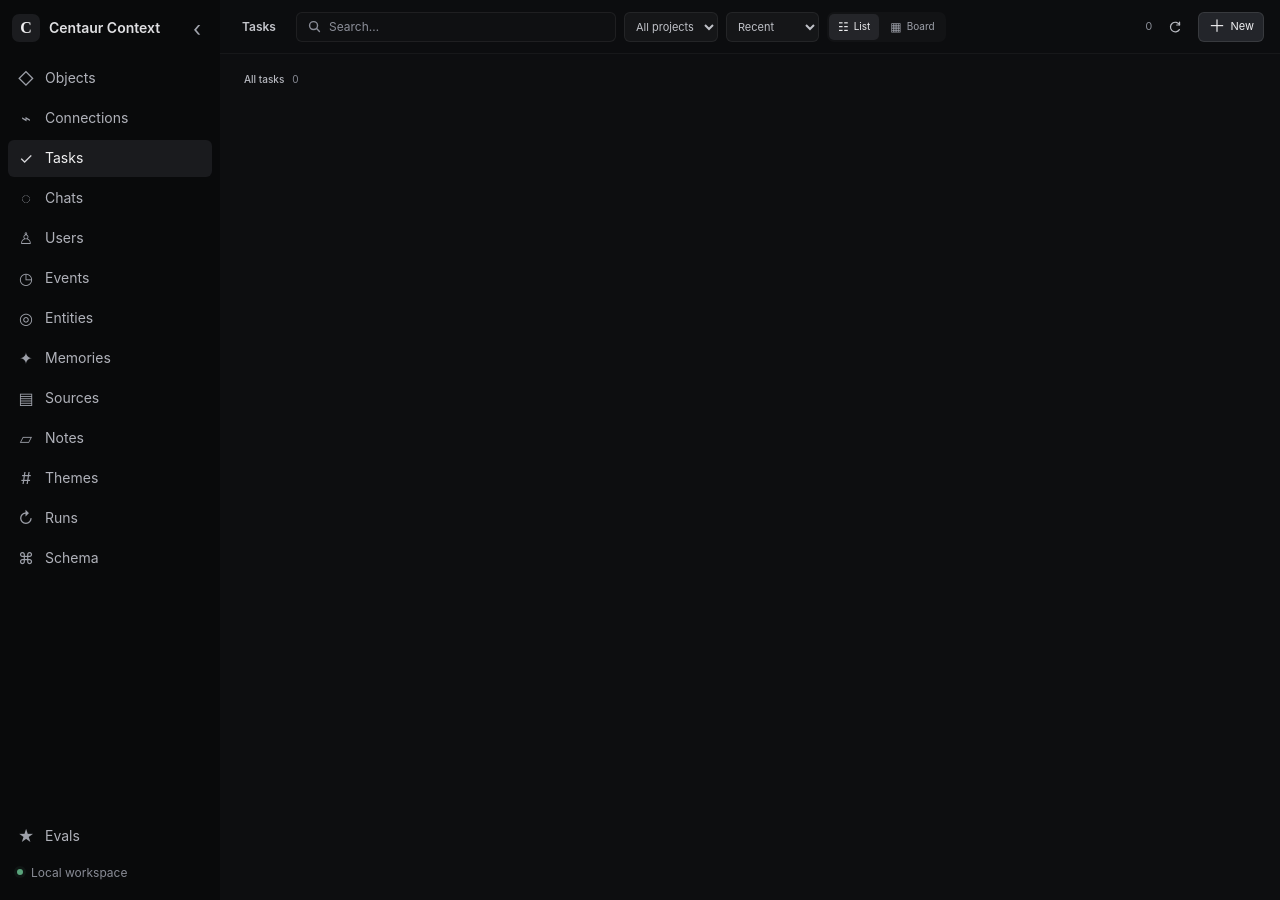
Test case: Tasks List due-date mode › applies task search and project filters before building date groups
Select "Due date" in the dropdown named "Sort Tasks" at (772, 26), box [726,12,819,42]
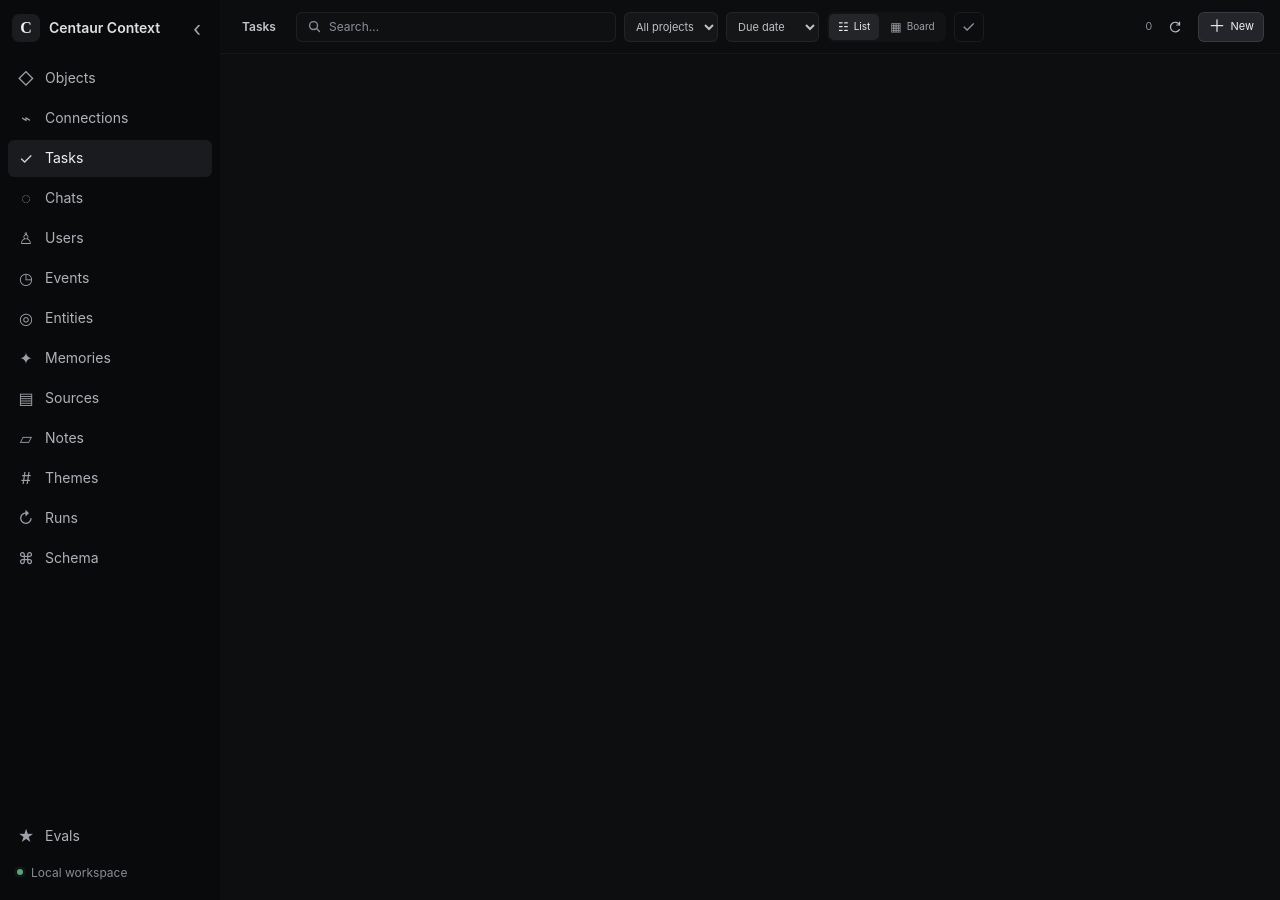
Type "needle" into the field named "Search tasks" at (467, 26), box [329,18,605,35]
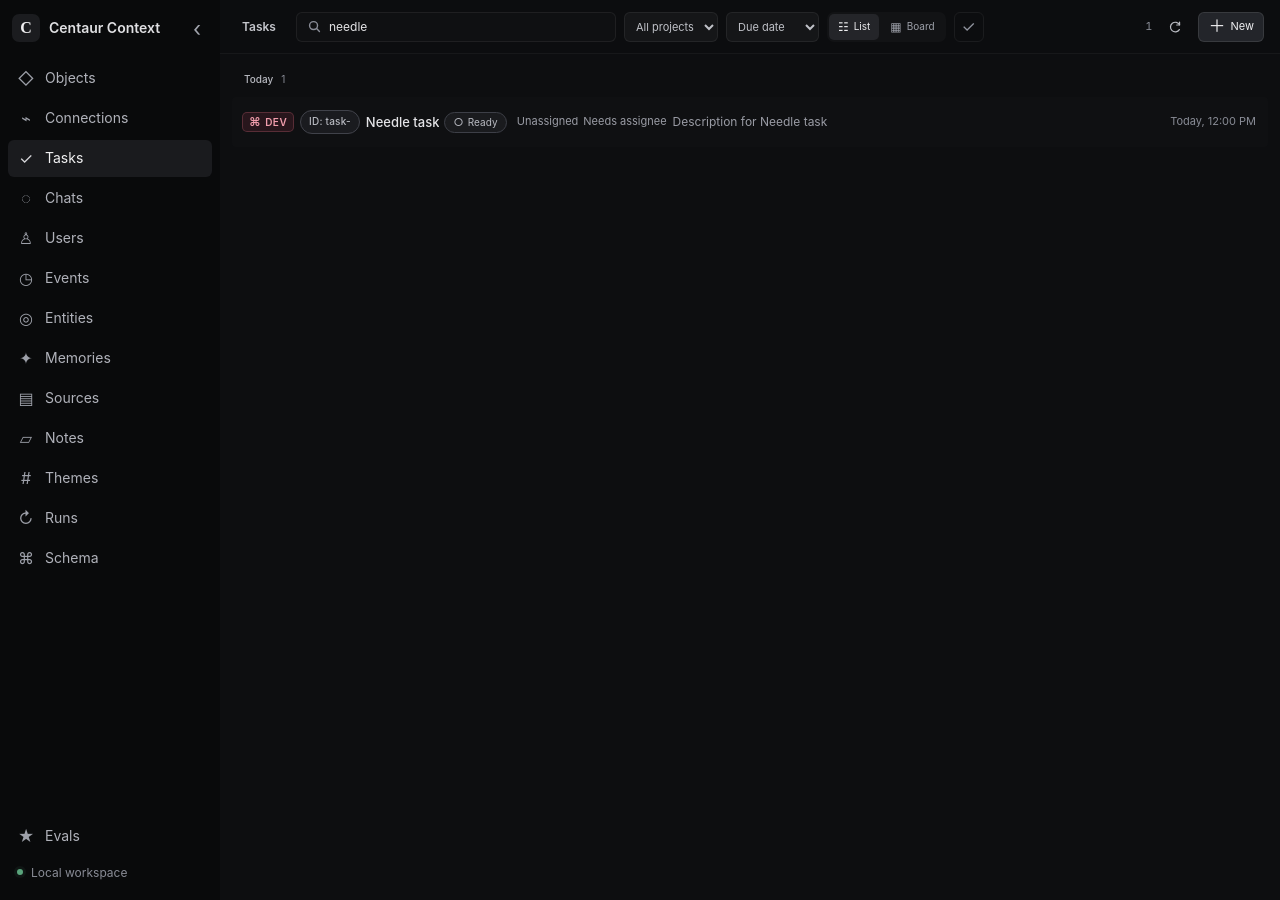
Expected: the text "Other task" is not shown
Result: the element named "Today tasks" shows "Needle task" at [366,114,440,130]
Clear the field named "Search tasks" at (467, 26), box [329,18,605,35]
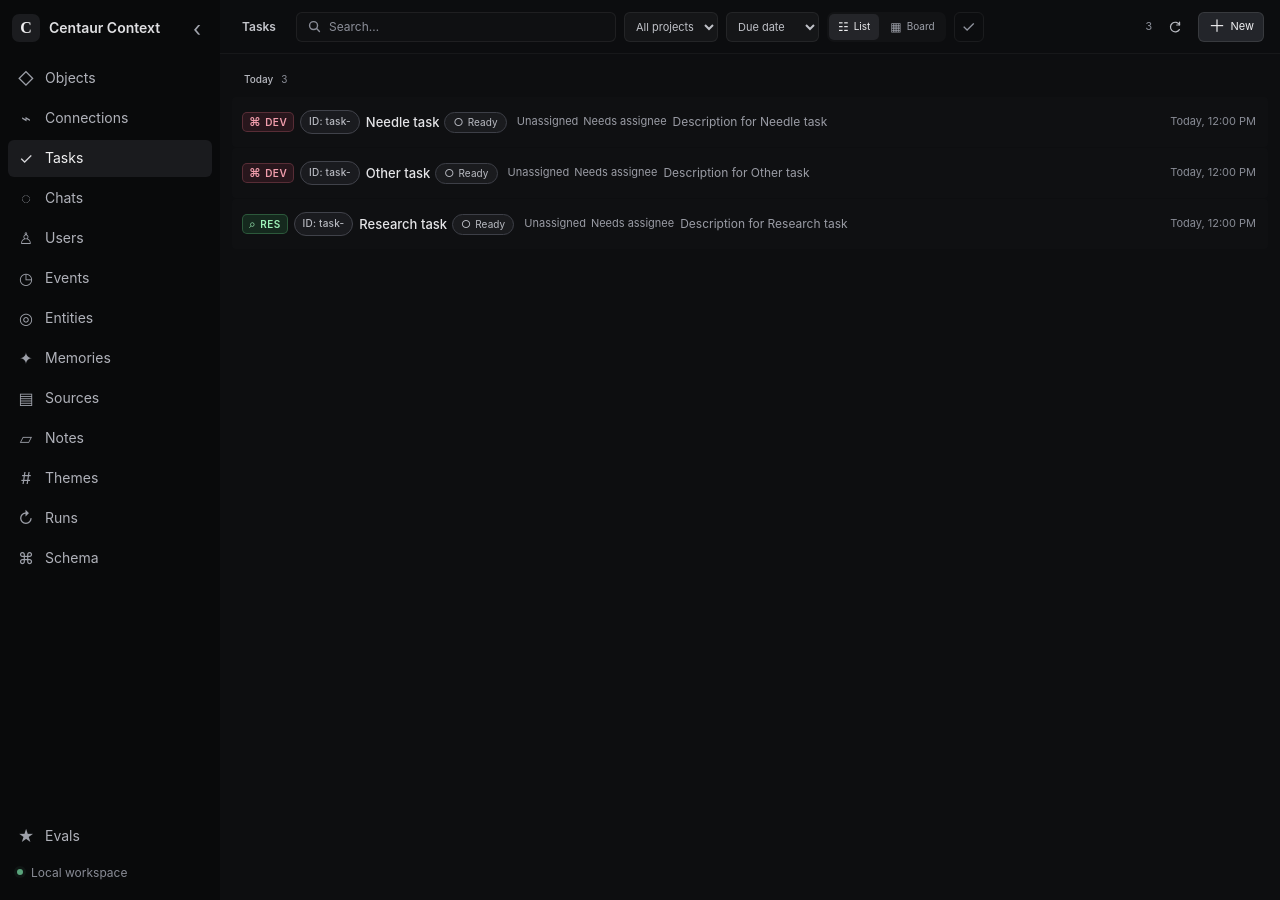
Select "⌕ Research" in the dropdown named "Filter task projects" at (671, 26), box [624,12,718,42]
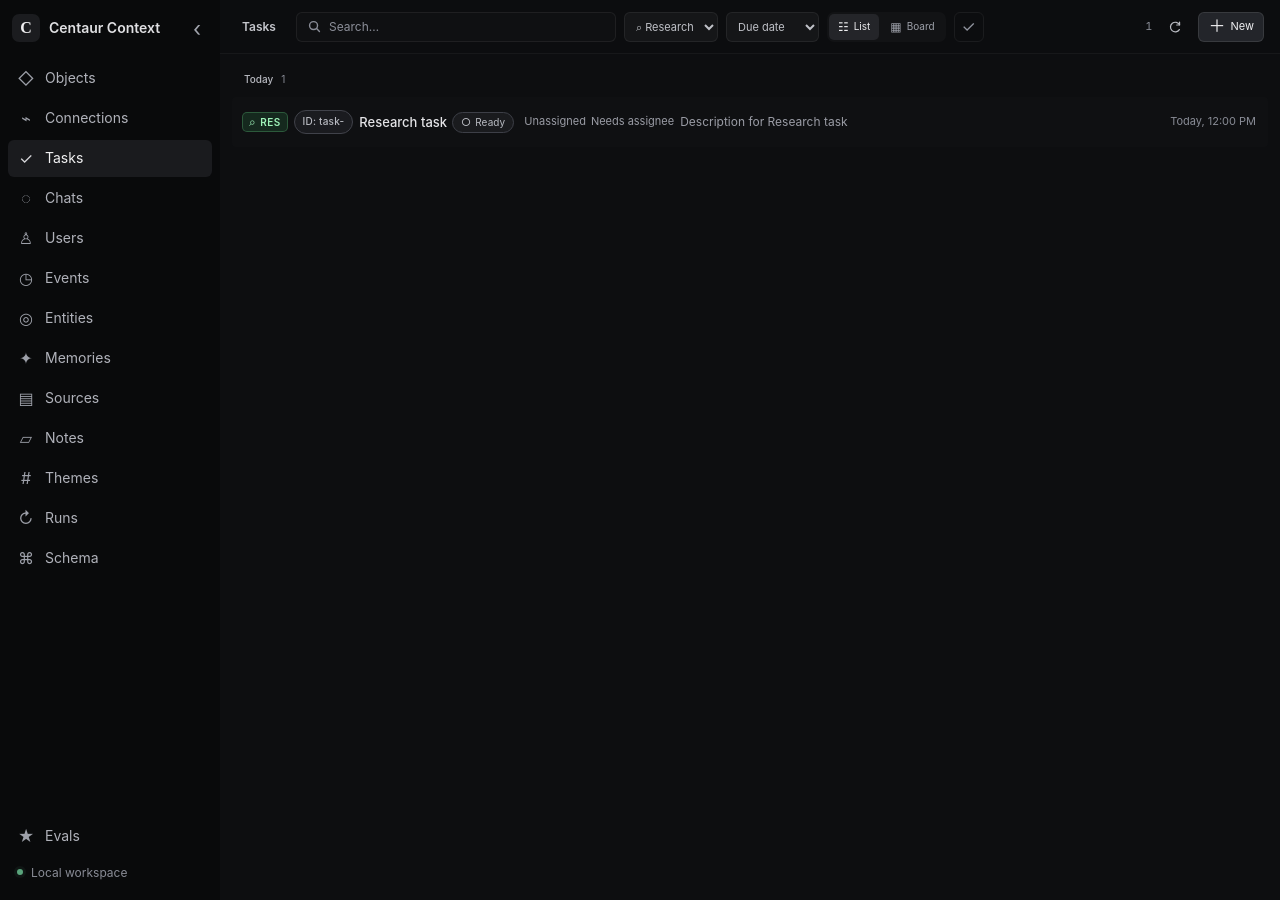
Result: the element named "Today tasks" shows "Research task" at [359,114,447,130]
Result: the text "Needle task" is gone
Result: the text named "1 records" is shown at [1145,18,1152,34]
